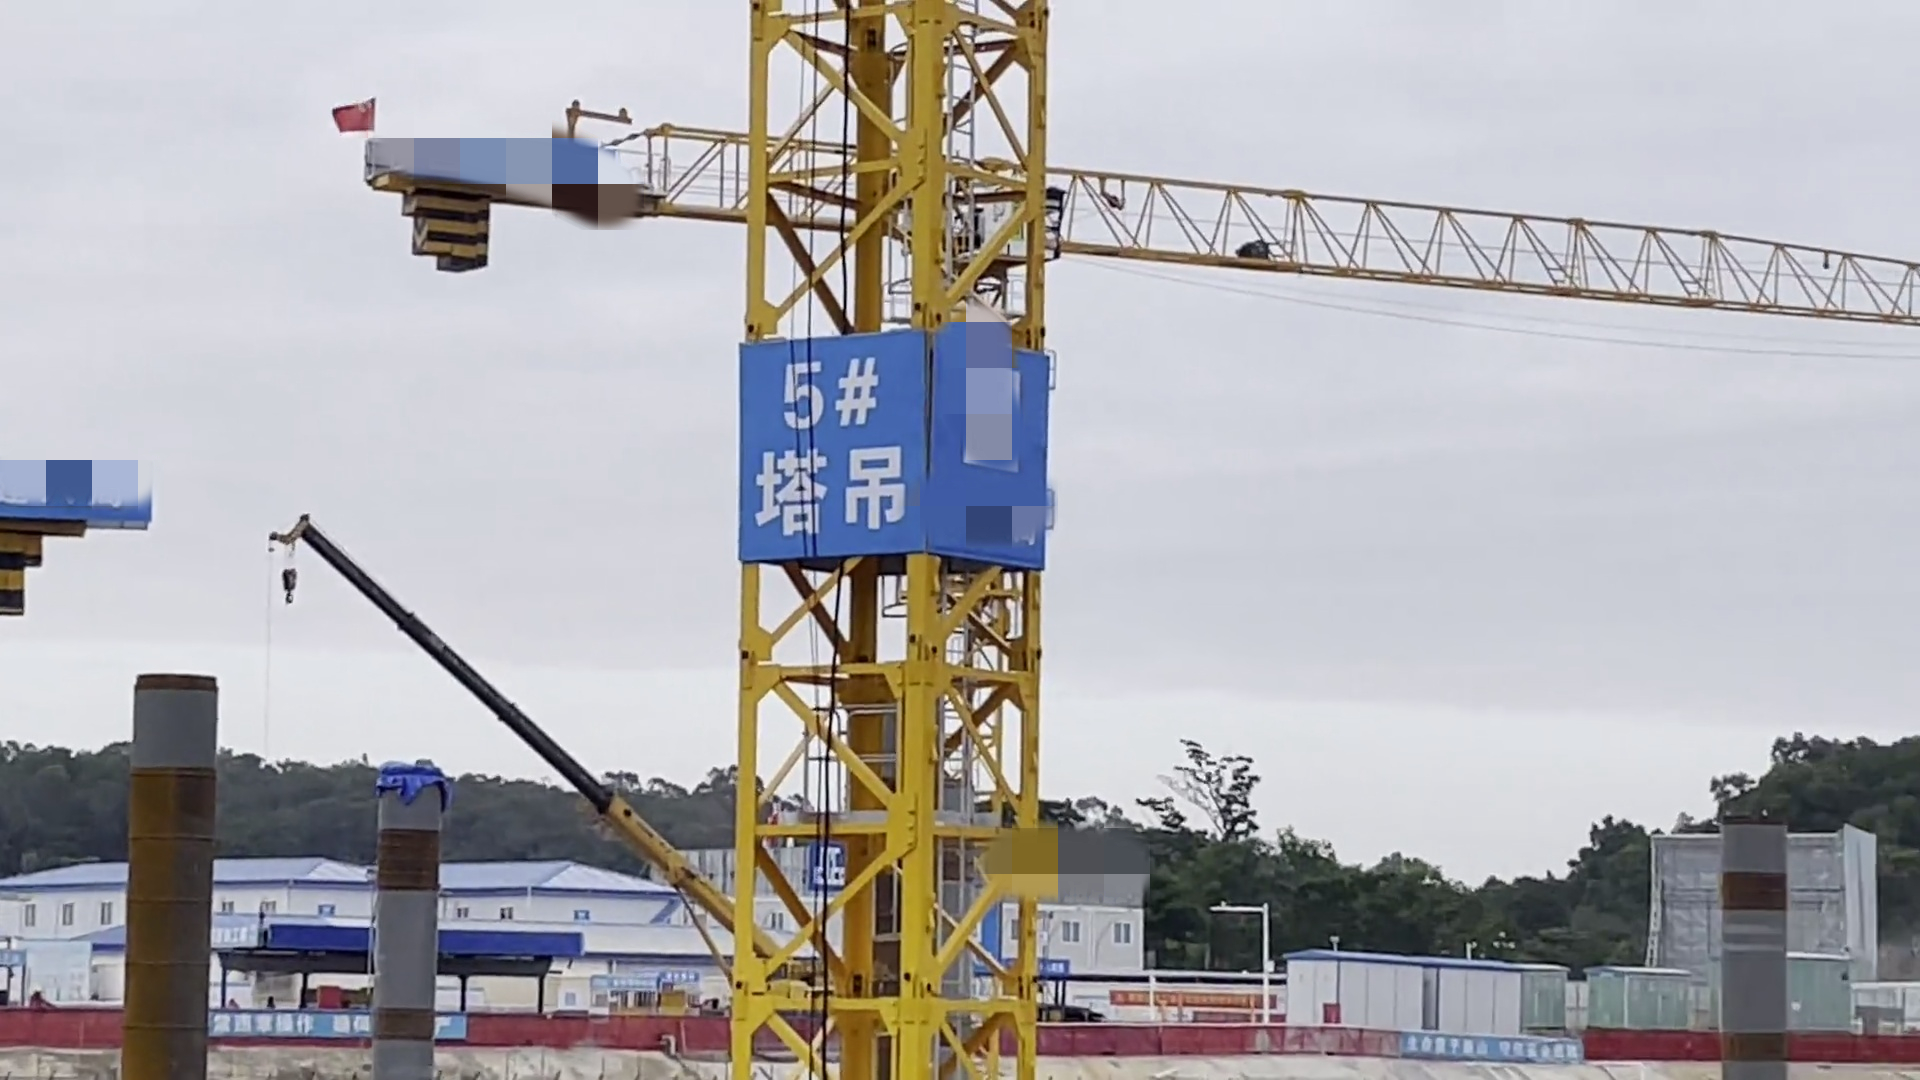fence: (1031, 1014, 1920, 1073), (208, 1000, 737, 1064), (7, 993, 137, 1067)
hook: (256, 542, 349, 613)
slogan: (746, 338, 1038, 559), (359, 135, 608, 211), (214, 1006, 491, 1044), (1, 462, 156, 524), (1402, 1025, 1594, 1071), (204, 910, 280, 963), (806, 841, 861, 906)
